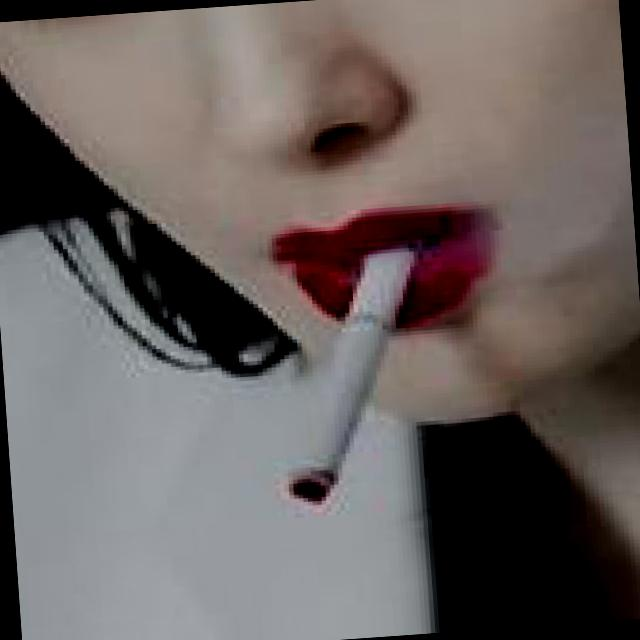cigarette: (259, 227, 452, 514)
